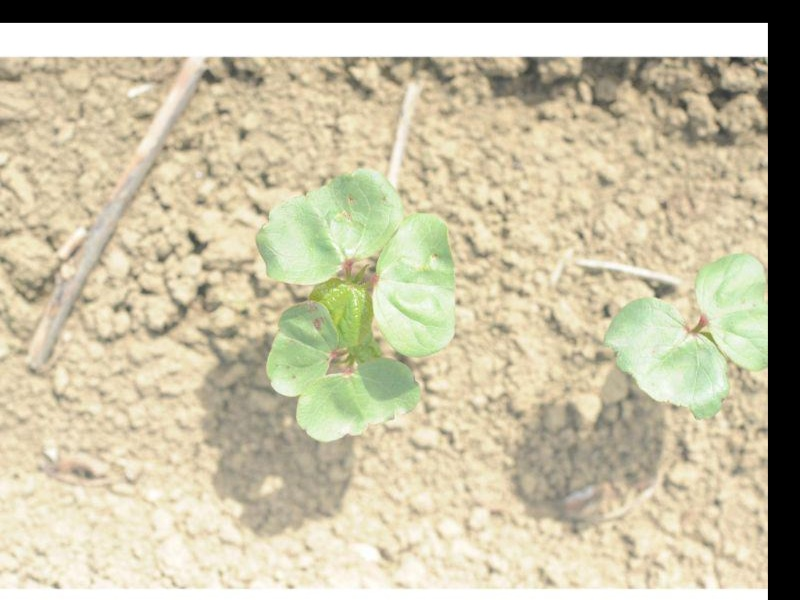cotton: (254, 170, 456, 441), (606, 251, 767, 417)
